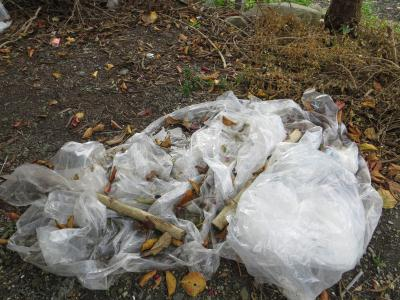plastic_bag: (40, 97, 357, 298)
